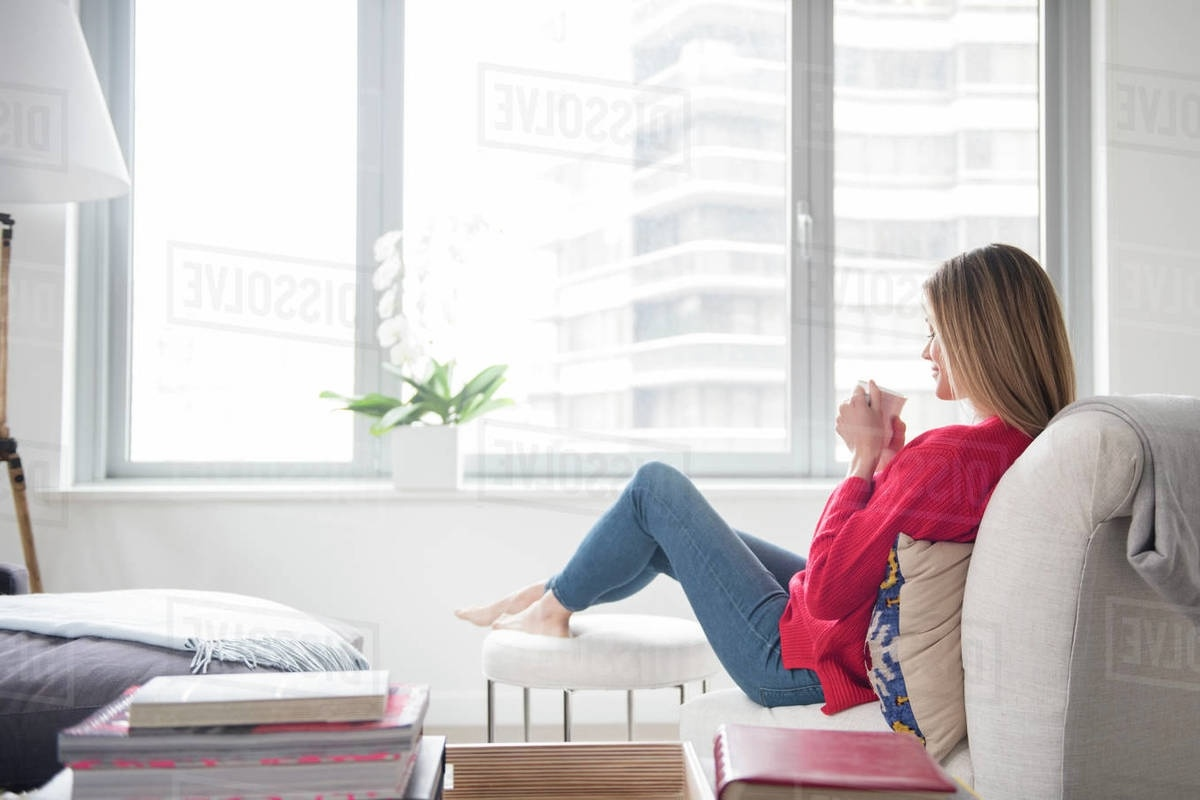not_fallen: (474, 216, 1097, 712)
